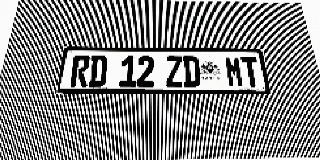1: (119, 56, 137, 87)
2: (137, 56, 154, 87)
D: (88, 55, 108, 87), (182, 56, 201, 87)
M: (224, 56, 244, 87)
R: (70, 55, 91, 87)
T: (241, 56, 261, 87)
Z: (166, 56, 183, 87)
